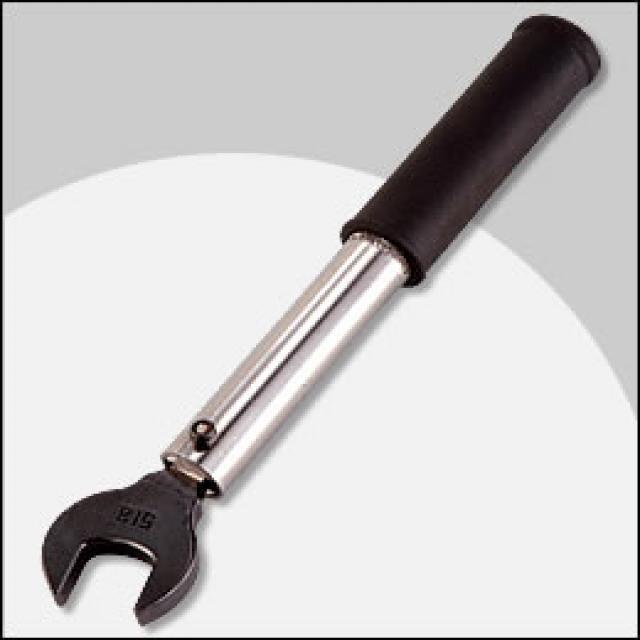wrench: (34, 9, 612, 628)
